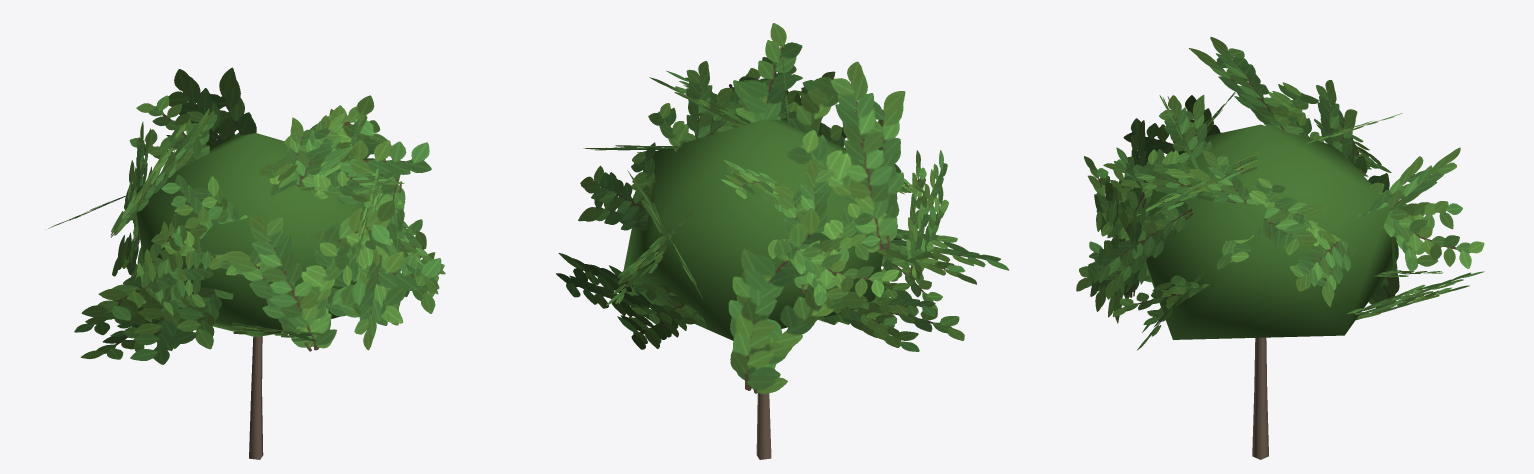
The model's file is GEN_PEQUENA_2.glb.
The picture shows the model from 3 angles, left to right: view 1: azimuth 30°, elevation 25°; view 2: azimuth 150°, elevation 25°; view 3: azimuth 270°, elevation 25°; orthographic projection. The views are drawn at different scales.
Visible parts, largest first — view 1: Arv_GEN_PEQUENA_lod2; view 2: Arv_GEN_PEQUENA_lod2; view 3: Arv_GEN_PEQUENA_lod2.
Boxes of the visible parts, box(x1,y1,x2,y2) form: Arv_GEN_PEQUENA_lod2: box(48, 67, 445, 459); Arv_GEN_PEQUENA_lod2: box(556, 23, 1009, 459); Arv_GEN_PEQUENA_lod2: box(1076, 37, 1484, 459).
Bounding box in the file's own units: 13.22 × 11.64 × 12.33.
3 materials, 1 textured.
